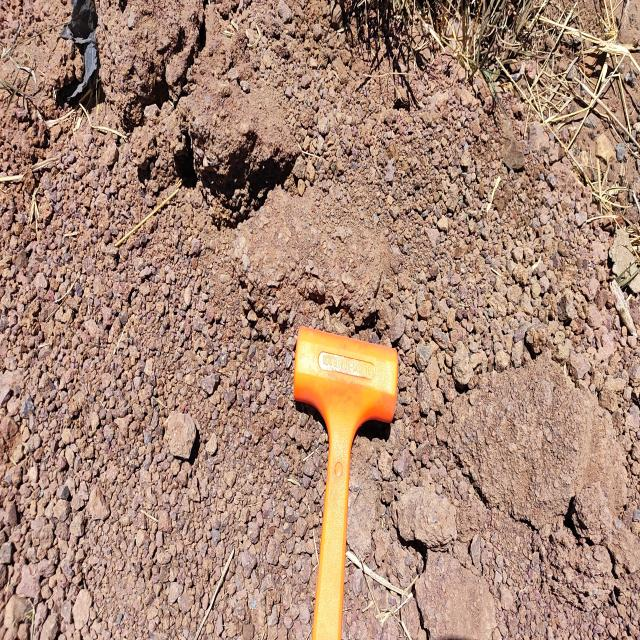Orange_hammer: (292, 324, 399, 638)
